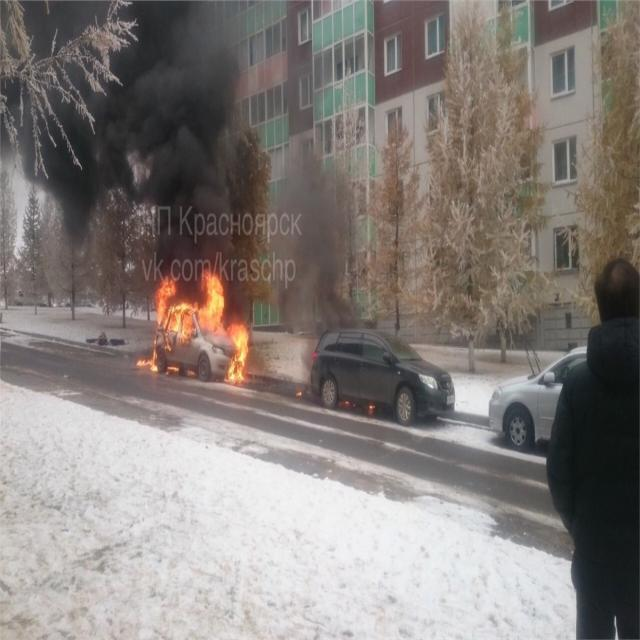Fire: (198, 272, 224, 331), (164, 300, 197, 344), (225, 324, 249, 383), (155, 278, 177, 326), (136, 348, 156, 372)
Smoke: (0, 0, 241, 298), (272, 141, 362, 330)
